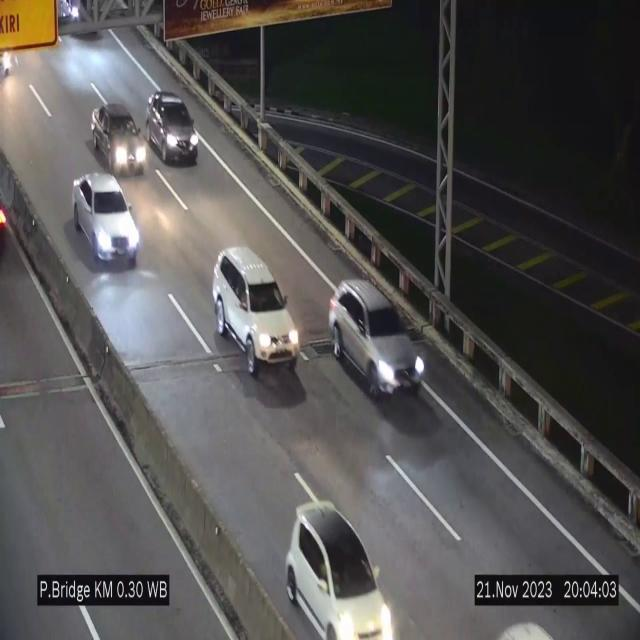Car: (286, 503, 394, 640), (328, 279, 426, 397), (213, 247, 299, 375), (73, 173, 140, 265), (89, 101, 151, 185), (146, 91, 198, 163)
